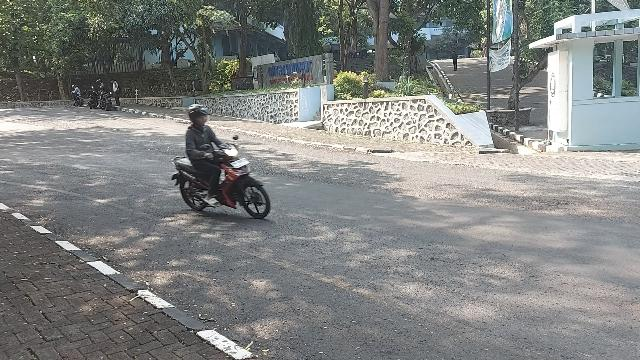helm: (190, 105, 213, 125)
motor: (173, 136, 272, 220)
